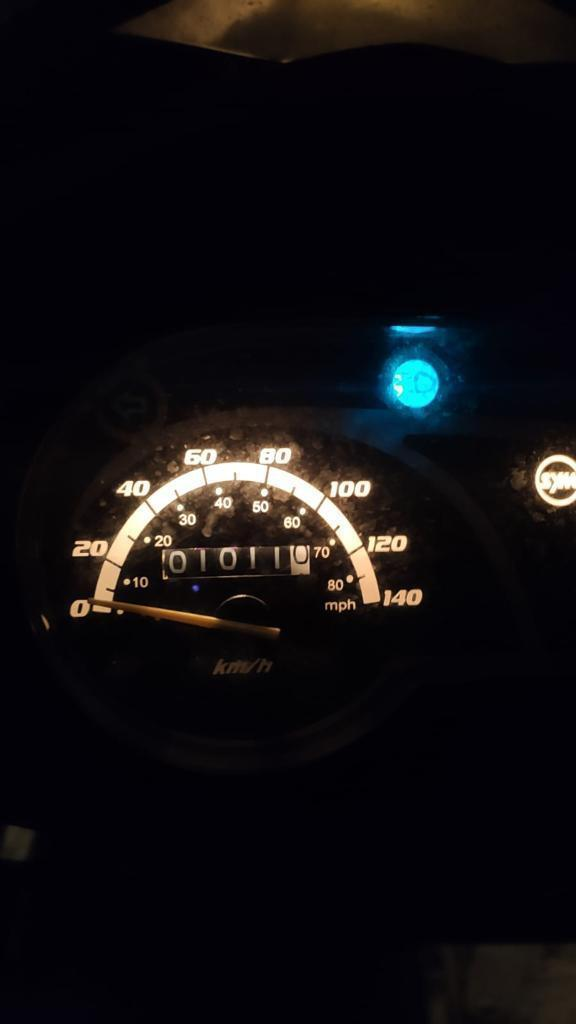0: (216, 547, 237, 571), (168, 548, 187, 574), (292, 544, 309, 564)
1: (194, 547, 210, 573), (245, 545, 259, 570), (270, 545, 281, 570)
odometer: (153, 541, 314, 582)
